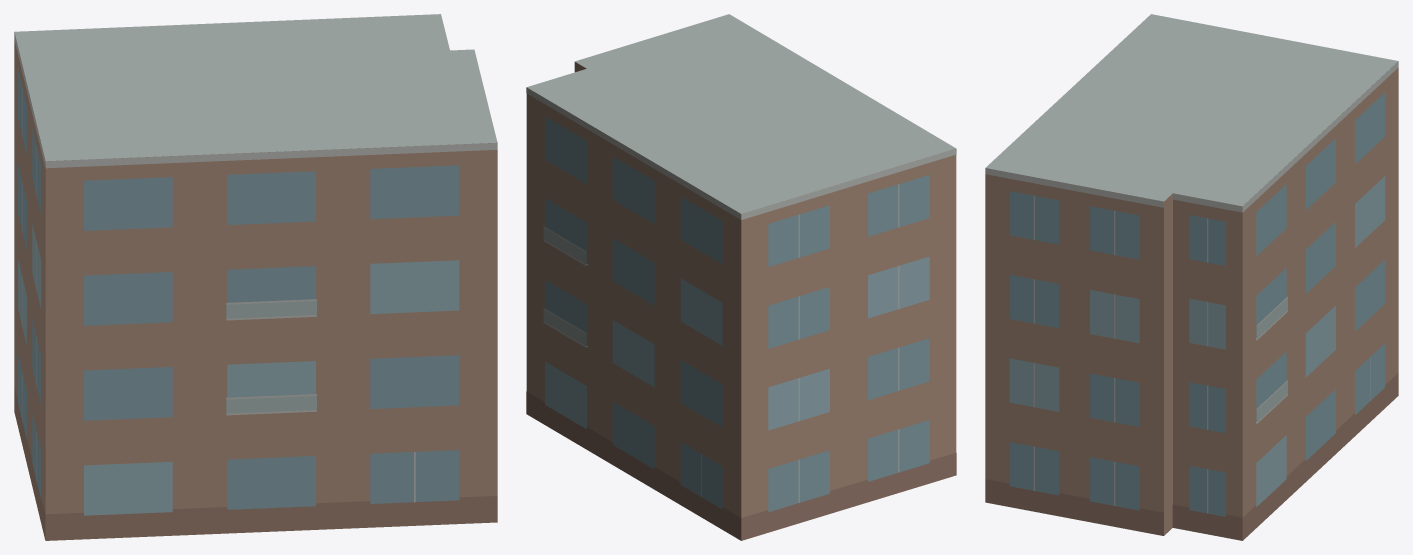
The model's file is survey-upis-32974551.glb.
3 views of the same model, side by side, from view 1: azimuth 30°, elevation 25°; view 2: azimuth 150°, elevation 25°; view 3: azimuth 270°, elevation 25° (orthographic). The views are drawn at different scales.
Visible parts, largest first — view 1: survey-upis-32974551.tmp; view 2: survey-upis-32974551.tmp; view 3: survey-upis-32974551.tmp.
Part boxes in pixels (bbox=[...]): survey-upis-32974551.tmp: bbox=[14, 14, 497, 540]; survey-upis-32974551.tmp: bbox=[526, 14, 956, 540]; survey-upis-32974551.tmp: bbox=[985, 14, 1398, 540].
Size of the model in its own units: 16.17 by 13.1 by 14.68.
